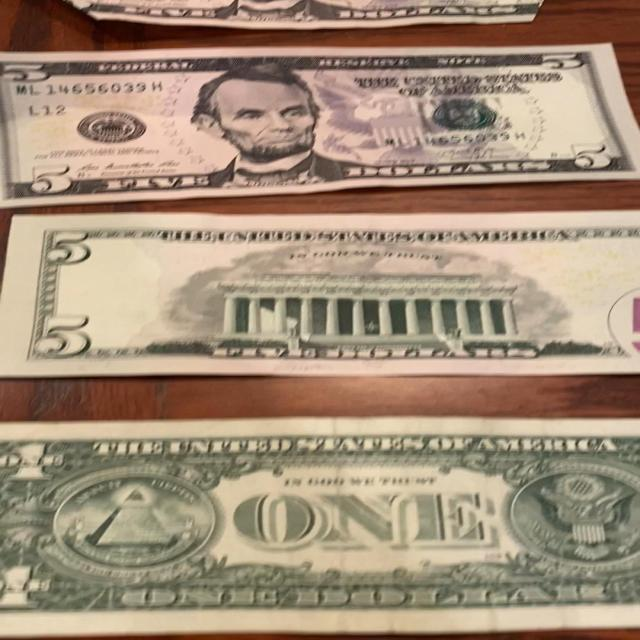1-Back: (0, 414, 640, 638)
5-Back: (0, 204, 640, 384)
5-Front: (0, 42, 640, 214), (10, 0, 572, 34)
